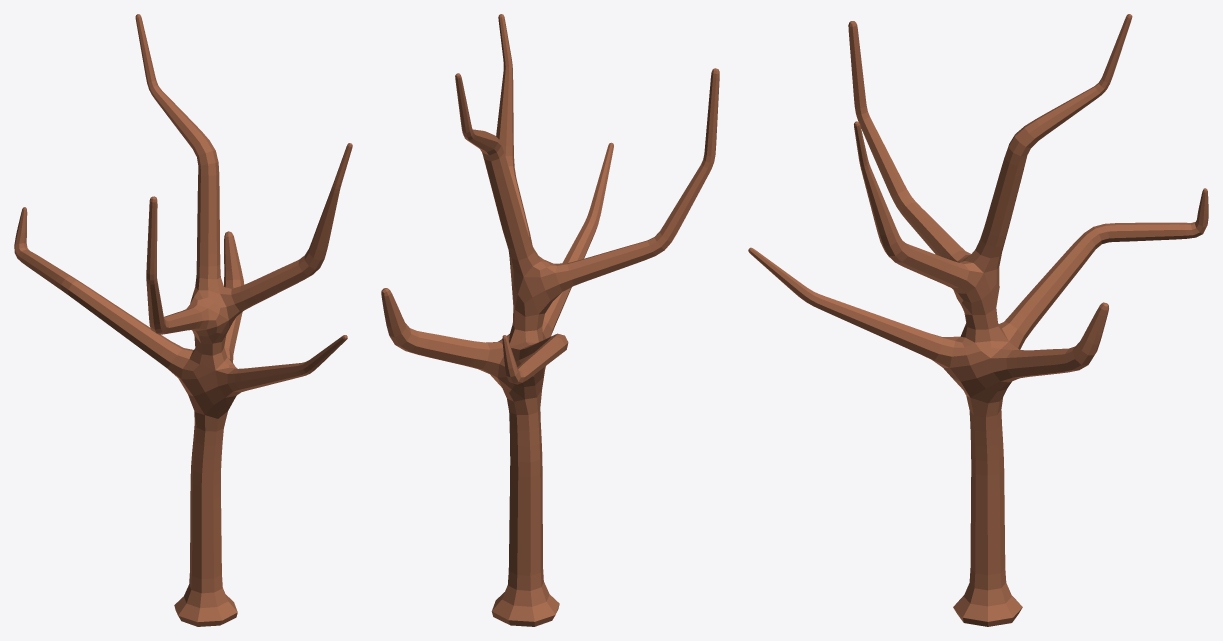
Rendered from kuruagacccc.fbx.
3 views of the same model, side by side, from view 1: azimuth 30°, elevation 25°; view 2: azimuth 150°, elevation 25°; view 3: azimuth 270°, elevation 25° (orthographic). The views are drawn at different scales.
Parts seen in each view (by area): view 1: Plane; view 2: Plane; view 3: Plane.
Boxes of the visible parts, bbox=[...] form: Plane: bbox=[14, 14, 352, 626]; Plane: bbox=[381, 14, 719, 626]; Plane: bbox=[748, 14, 1208, 626].
Bounding box in the file's own units: 357 × 929 × 645.
